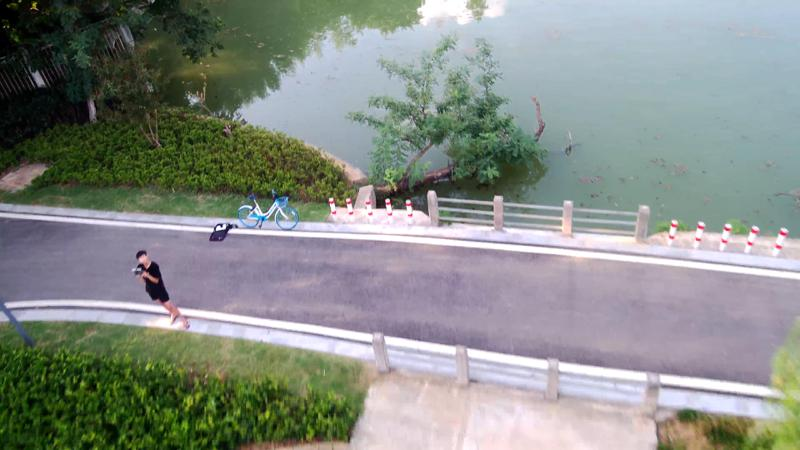passerby: (129, 250, 190, 330)
